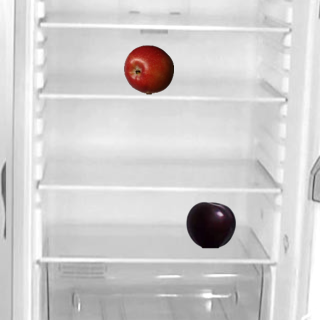Apple Braeburn: (123, 44, 173, 94)
Cherry Wax Black: (185, 199, 235, 249)
